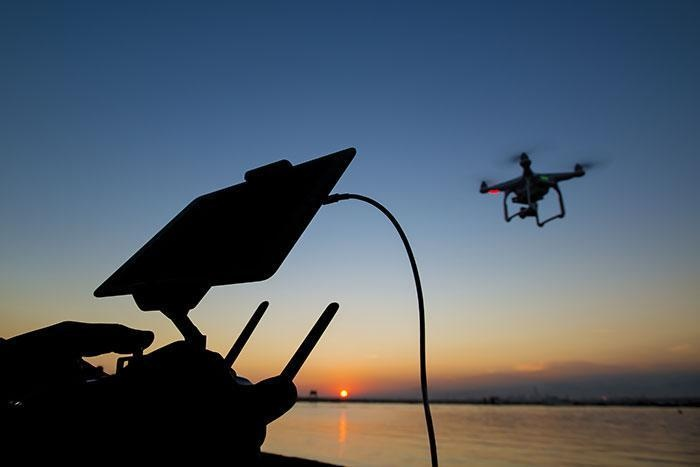UAV: (478, 156, 589, 227)
